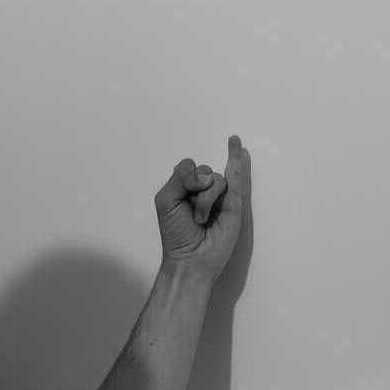I: (152, 135, 243, 281)
